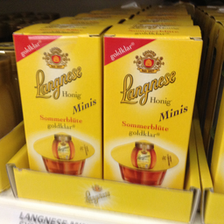honey: (106, 21, 203, 193), (11, 18, 104, 181)
